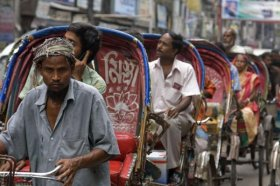Rickshaw: (2, 20, 151, 181), (135, 22, 201, 185), (190, 32, 242, 182), (227, 46, 273, 174)
